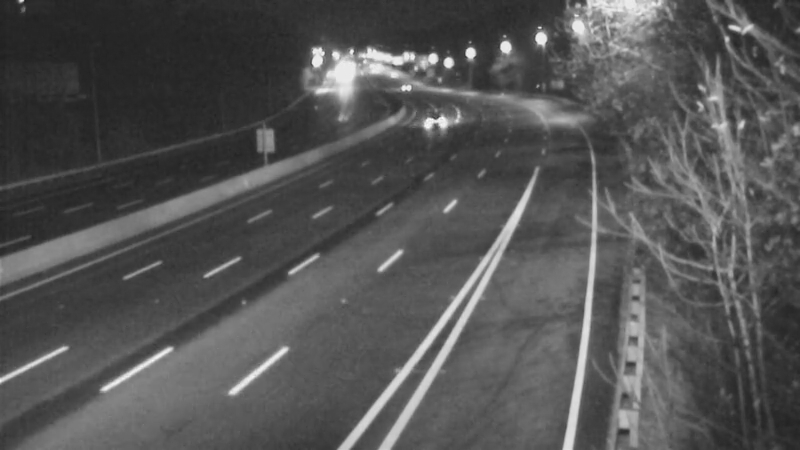vehicle: (380, 62, 430, 112), (408, 100, 458, 150)
